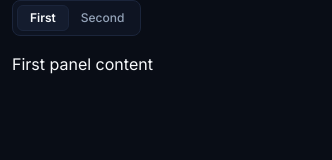
Scenario: Tabs component › switches tabs and reveals corresponding content
Expected: the text "First panel content" is shown, [12,54,153,74]
Expected: the text "Second panel content" is not shown
Click the tab "Second".
click(103, 18)  # box [69,6,136,30]
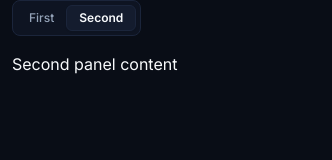
Expected: the text "First panel content" is gone
Expected: the text "Second panel content" is shown, [12,54,178,74]
